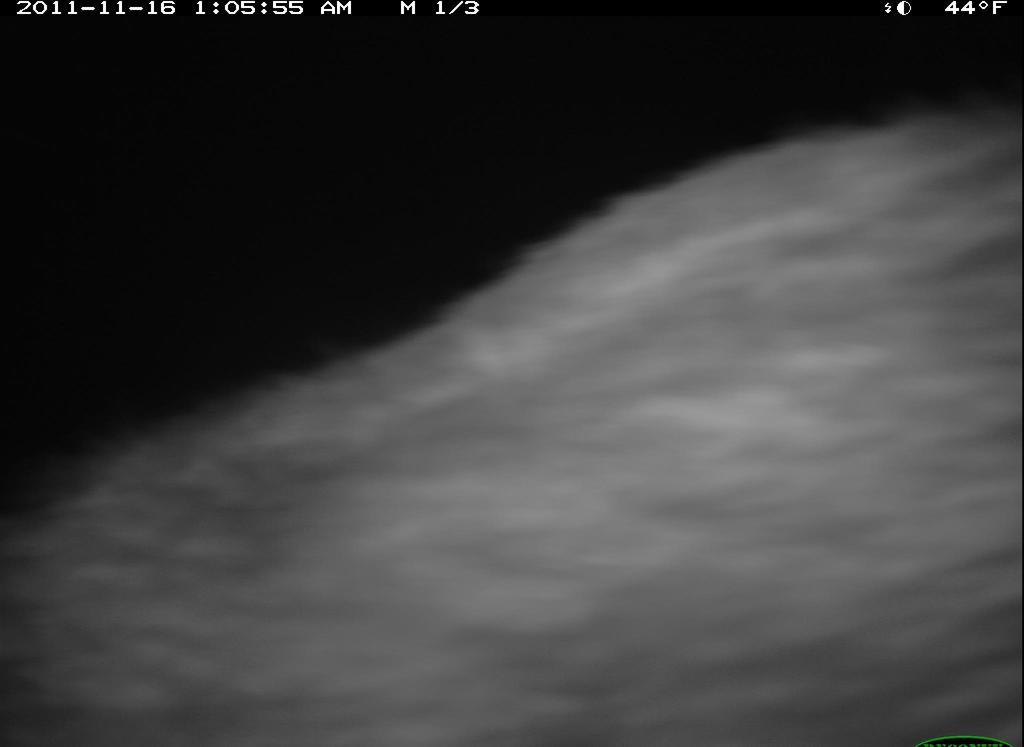raccoon: (6, 103, 1018, 747)
